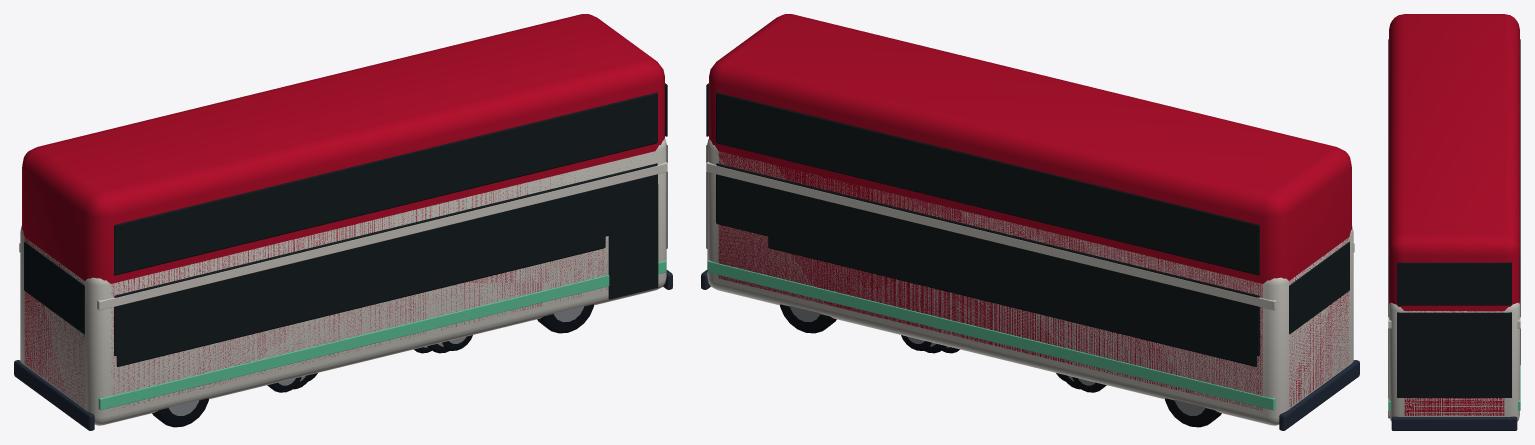
Rendered from vehicles.glb.
3 views of the same model, side by side, from view 1: azimuth 30°, elevation 25°; view 2: azimuth 150°, elevation 25°; view 3: azimuth 270°, elevation 25° (orthographic). The views are drawn at different scales.
Visible parts, largest first — view 1: decker, bus; view 2: decker, bus; view 3: decker, bus.
Part boxes in pixels (x1,y1,x2,y2): decker: (19,14,667,410); bus: (14,138,672,430); decker: (706,14,1354,410); bus: (701,138,1359,430); decker: (1388,14,1520,418); bus: (1388,298,1520,430).
Bounding box in the file's own units: 10.62 × 4.3 × 2.53.
